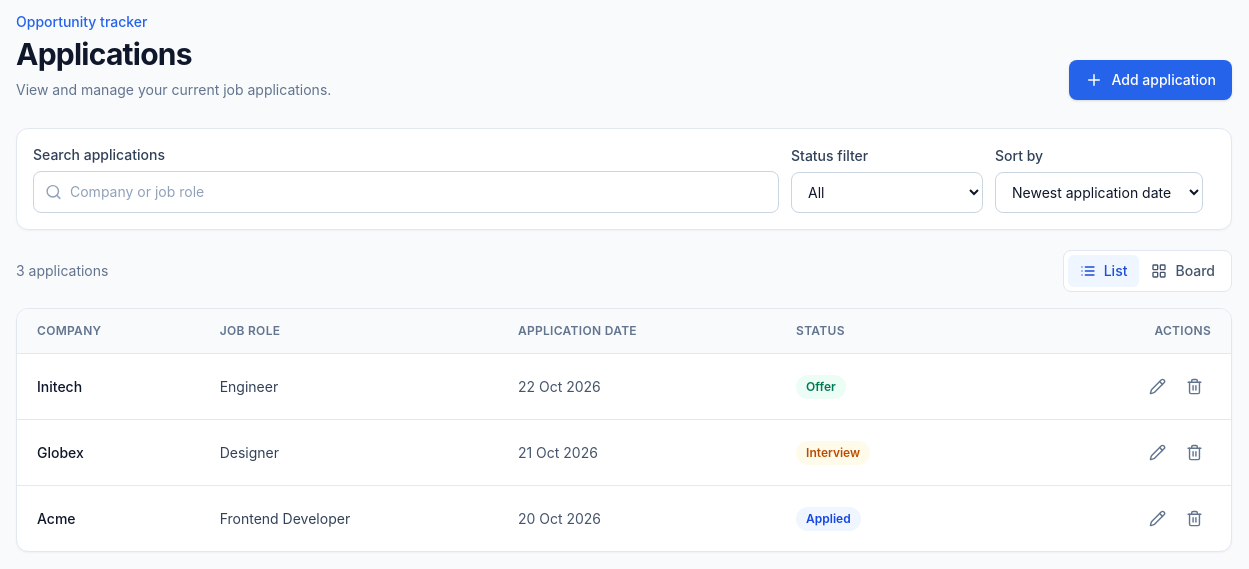
Test case: Applications page › combines status filtering with search and clears both filters
Select "Interview" in the dropdown labelled "Status filter". click: (887, 192)
box: top-left (791, 172), bottom-right (983, 213)
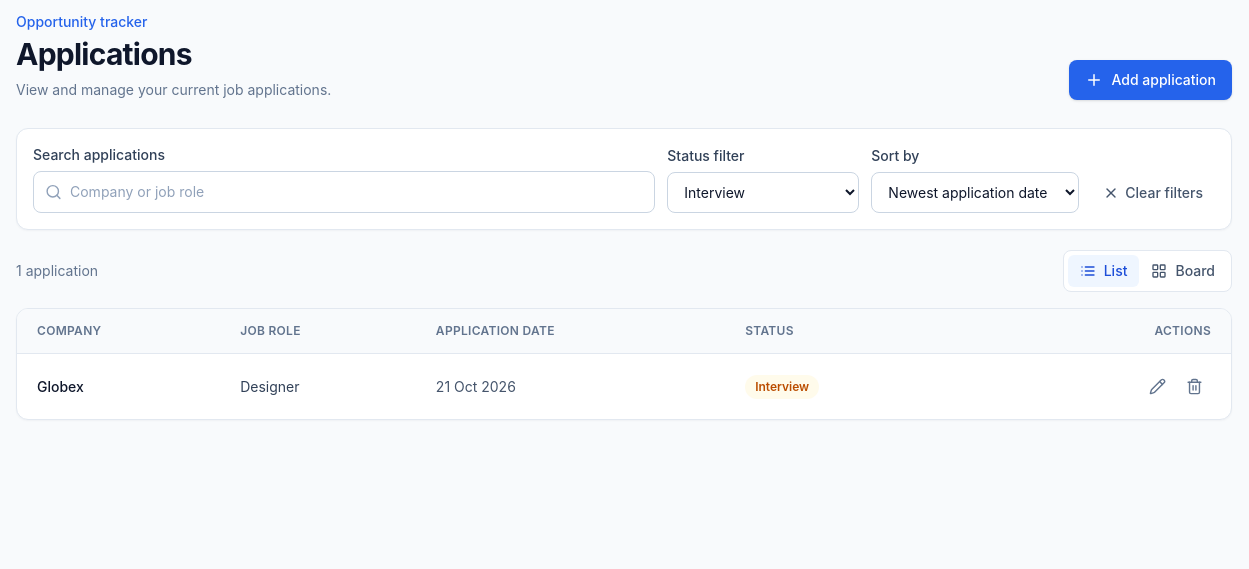
Type "globex" into the search field labelled "Search applications". click: (344, 192)
box: top-left (33, 171), bottom-right (655, 213)
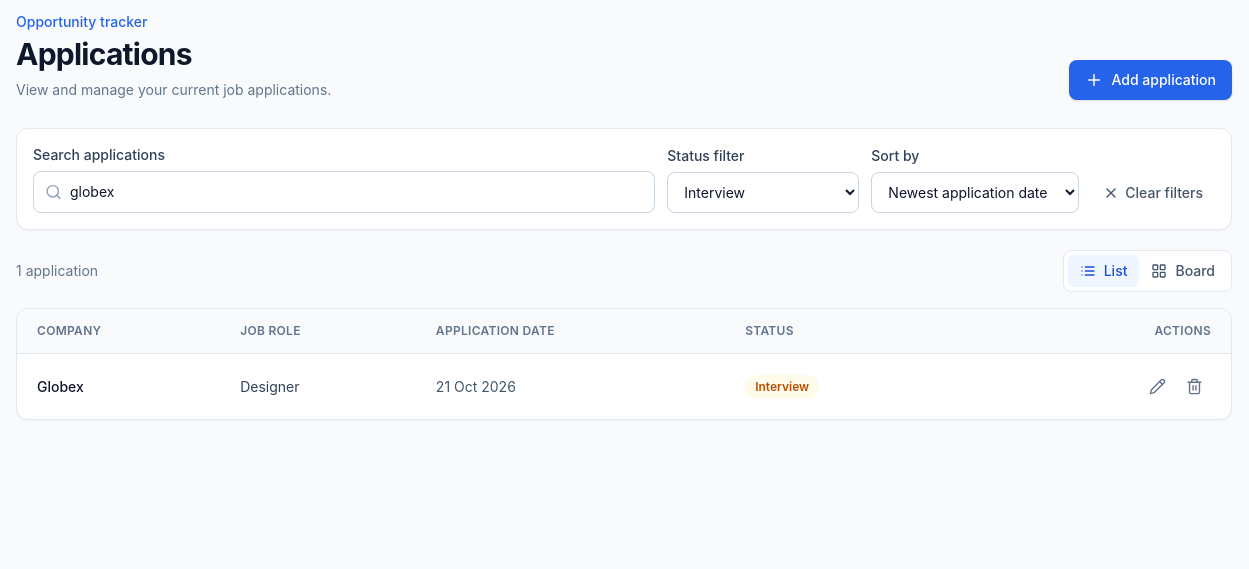
Expected: the text "Acme" is not shown
Result: the text "Globex" is shown 2 times
Click the button "Clear filters". click: click(1153, 193)
box: top-left (1091, 173), bottom-right (1215, 213)
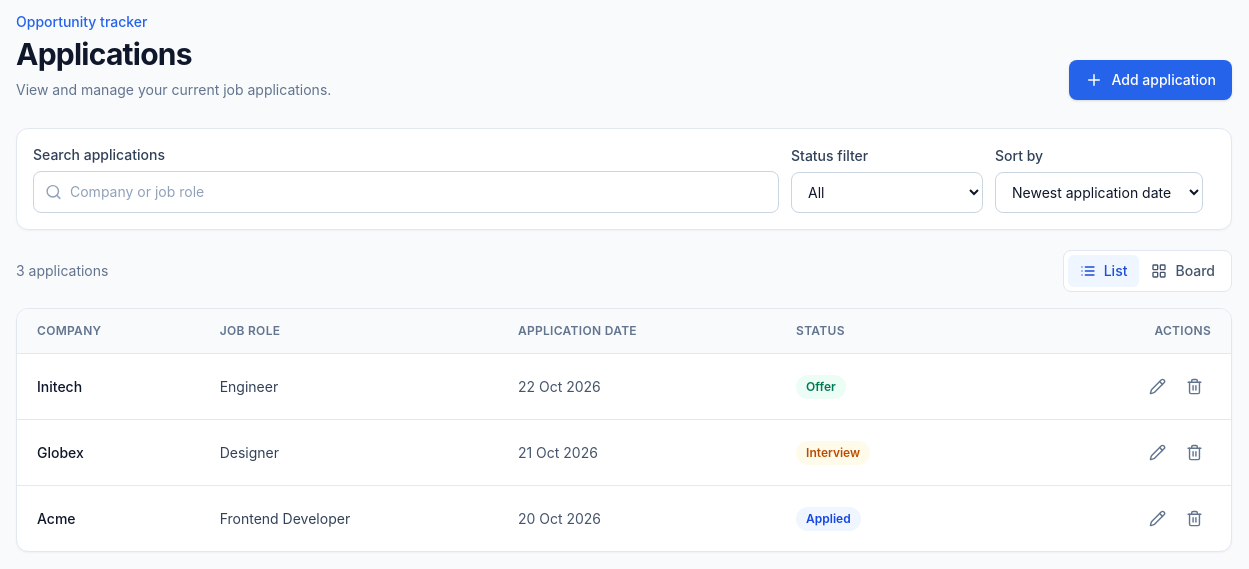
Result: the text "3 applications" is shown at top-left (16, 261), bottom-right (108, 281)
Result: the search field labelled "Search applications" is empty at top-left (33, 171), bottom-right (779, 213)
